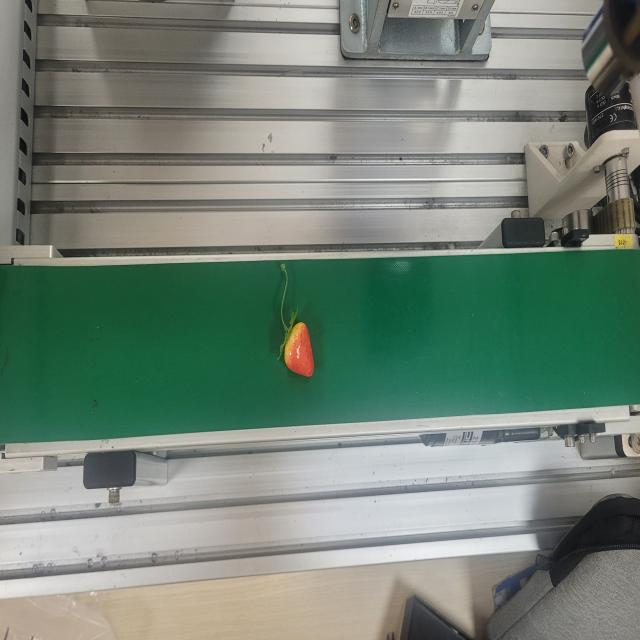Small Unripe Strawberry: (274, 260, 316, 380)
conveyor: (2, 241, 640, 451)
